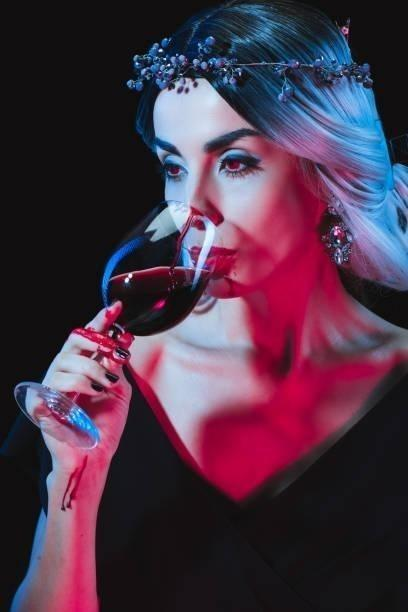glass-wine: (12, 199, 230, 448)
